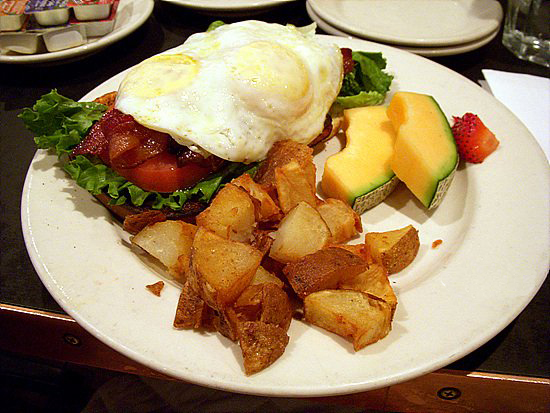boiled potatoes: (160, 167, 379, 355)
chopped lettuce: (16, 91, 189, 227)
fried egg: (119, 18, 338, 150)
